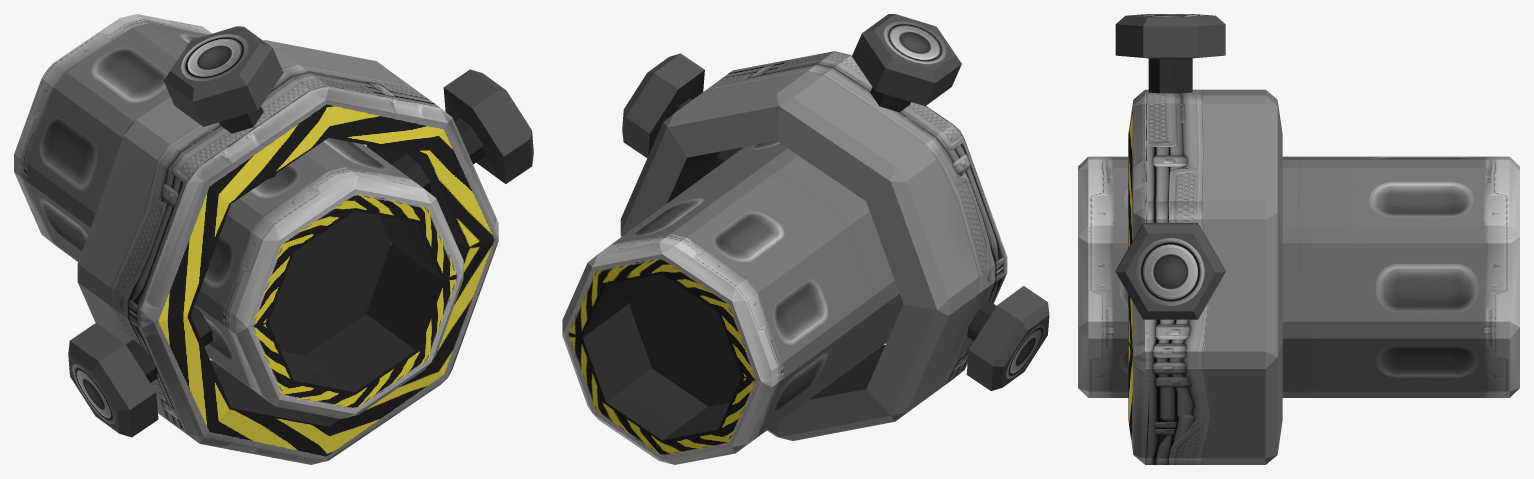
File: PipeJoint.glb
3 renders of one model, left to right at view 1: azimuth 30°, elevation 25°; view 2: azimuth 150°, elevation 25°; view 3: azimuth 270°, elevation 25°, orthographic. The views are drawn at different scales.
Parts seen in each view (by area): view 1: Cylinder.005; view 2: Cylinder.005; view 3: Cylinder.005.
Part boxes in pixels (x1,y1,x2,y2): Cylinder.005: (14,14,533,464); Cylinder.005: (562,14,1049,464); Cylinder.005: (1078,14,1519,464).
Bounding box in the file's own units: 15.47 × 14.46 × 14.1.
1 material, 1 textured.
